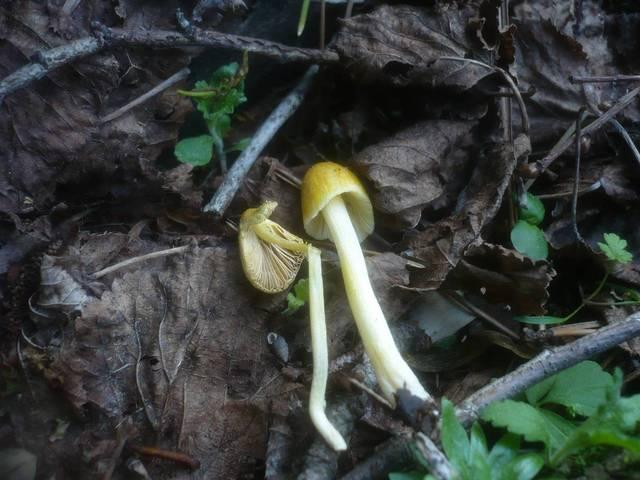edible_mushroom: (298, 159, 440, 444), (235, 196, 327, 359)
